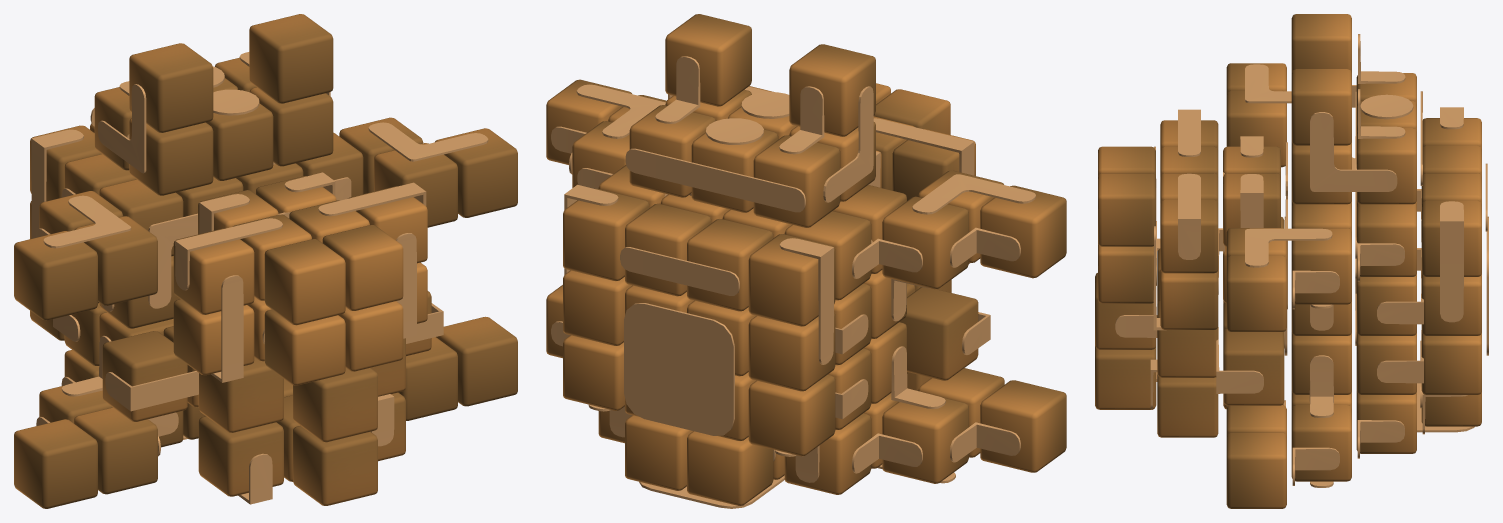
Rendered from level_146.fbx.
The picture shows the model from 3 angles, left to right: view 1: azimuth 30°, elevation 25°; view 2: azimuth 150°, elevation 25°; view 3: azimuth 270°, elevation 25°; orthographic projection. The views are drawn at different scales.
Visible parts, largest first — view 1: Cube_L7_3.052, Cube_L7_3.064, Cube_L7_3.051, Cube_L7_3.059, Cube_L1_11.003, Cube_L1_4.004, Cube_L7_3.065, Cube_L1_4.028, Cube_L1_11.004, Cube_L7_3.063, Cube_L1_11.001, Cube_L1_4.012 (+54 smaller); view 2: Link_33.003, Cube_L7_3.064, Cube_L7_3.052, Cube_L7_3.003, Cube_L1_4.015, Cube_L7_3.059, Cube_L7_3.051, Cube_L7_3.011, Cube_L7_3.002, Cube_L7_3.055, Cube_L7_3.014, Cube_L7_3.007 (+58 smaller); view 3: Cube_L7_3.065, Cube_L7_3.060, Cube_L1_11.001, Cube_L7_3.052, Cube_L1_4.016, Cube_L1_4.017, Cube_L1_4.004, Cube_L7_3.006, Cube_L7_3.030, Cube_L7_3.062, Cube_L1_11.019, Cube_L7_3.051 (+54 smaller).
Part boxes in pixels (x1,y1,x2,y2): Cube_L7_3.052: (249, 14, 333, 103); Cube_L7_3.064: (14, 419, 97, 508); Cube_L7_3.051: (129, 43, 213, 132); Cube_L7_3.059: (14, 231, 97, 320); Cube_L1_11.003: (264, 239, 345, 325); Cube_L1_4.004: (293, 425, 377, 505); Cube_L7_3.065: (436, 316, 517, 406); Cube_L1_4.028: (293, 368, 377, 442); Cube_L1_11.004: (264, 309, 345, 385); Cube_L7_3.063: (74, 407, 157, 494); Cube_L1_11.001: (322, 225, 403, 310); Cube_L1_4.012: (198, 416, 283, 496); Link_33.003: (624, 303, 734, 435); Cube_L7_3.064: (980, 380, 1066, 472); Cube_L7_3.052: (665, 14, 751, 106); Cube_L7_3.003: (748, 374, 835, 456); Cube_L1_4.015: (900, 287, 978, 380); Cube_L7_3.059: (980, 185, 1066, 278); Cube_L7_3.051: (789, 44, 875, 136); Cube_L7_3.011: (748, 234, 835, 326); Cube_L7_3.002: (687, 431, 773, 505); Cube_L7_3.055: (882, 196, 968, 289); Cube_L7_3.014: (563, 188, 649, 281); Cube_L7_3.007: (748, 312, 835, 391); Cube_L7_3.065: (1226, 432, 1286, 508); Cube_L7_3.060: (1226, 255, 1286, 331); Cube_L1_11.001: (1098, 173, 1155, 246); Cube_L7_3.052: (1291, 69, 1351, 145); Cube_L1_4.016: (1223, 328, 1284, 405); Cube_L1_4.017: (1157, 374, 1218, 437); Cube_L1_4.004: (1095, 346, 1156, 409); Cube_L7_3.006: (1421, 332, 1481, 394); Cube_L7_3.030: (1356, 203, 1416, 276); Cube_L7_3.062: (1291, 405, 1351, 481); Cube_L1_11.019: (1160, 269, 1218, 329); Cube_L7_3.051: (1291, 14, 1351, 72).
Size of the model in its own units: 16.77 by 12.76 by 12.81.
